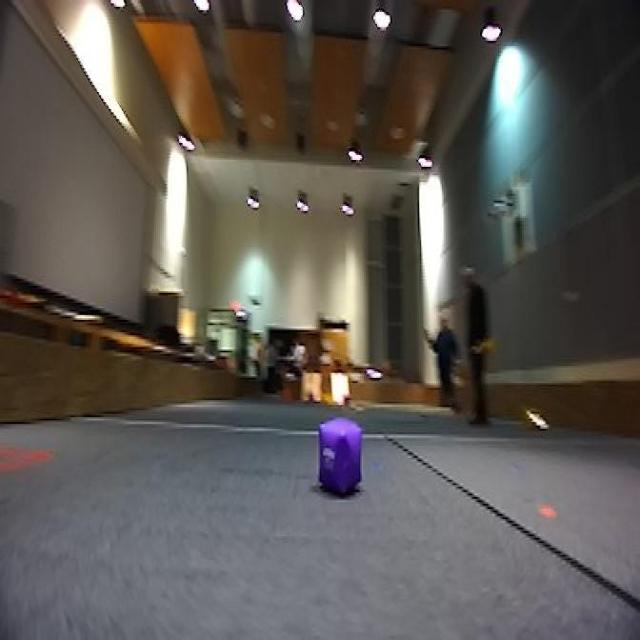frc_cone: (475, 335, 496, 359), (534, 408, 550, 432), (320, 388, 336, 405)
frc_cube: (318, 420, 365, 499), (343, 390, 356, 408), (306, 392, 317, 408)
